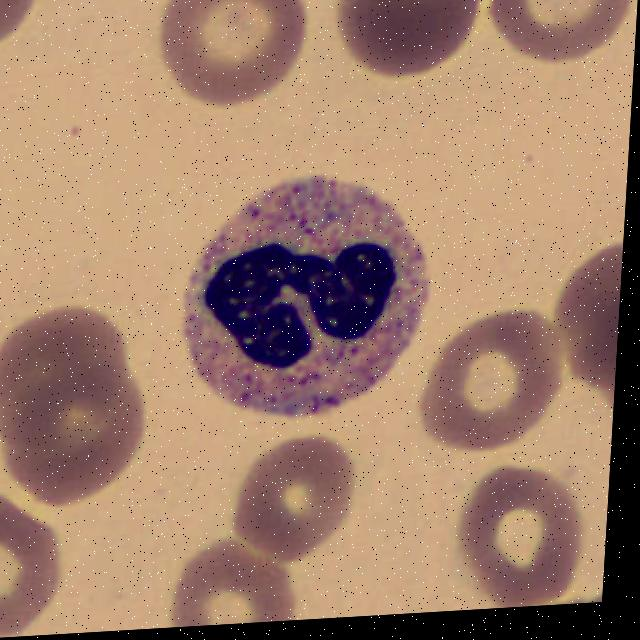neutrophil: (174, 159, 440, 427)
rbc: (402, 299, 565, 466), (4, 361, 151, 512), (153, 0, 318, 123), (229, 417, 354, 574), (0, 298, 118, 460), (458, 467, 587, 611), (323, 0, 485, 95), (485, 0, 640, 80), (154, 547, 296, 629), (554, 237, 624, 394), (0, 496, 60, 640), (593, 309, 619, 418)
